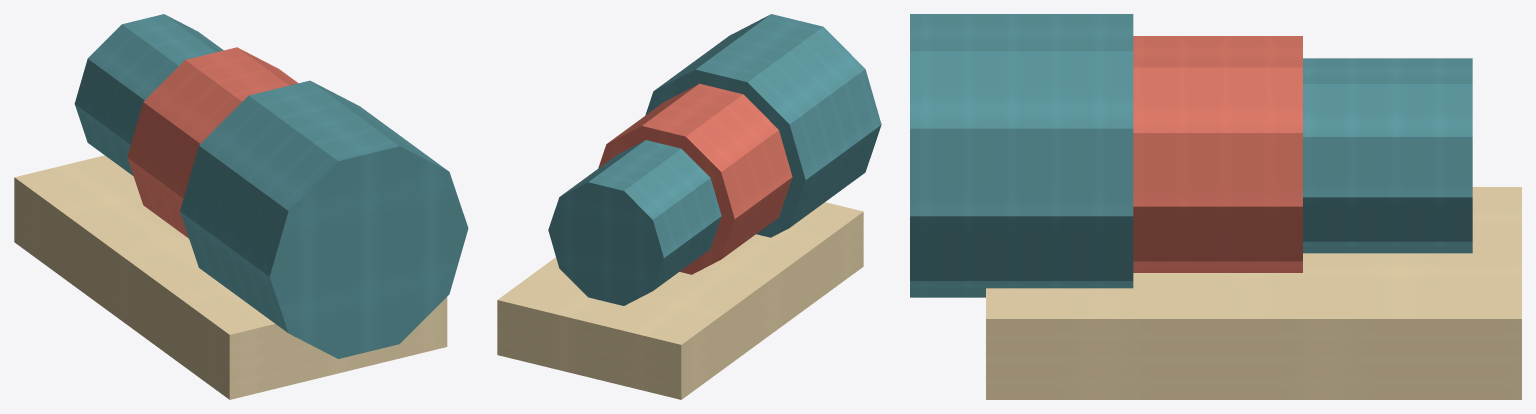
Rendered from atlas100-s075-a05.lod1.glb.
3 renders of one model, left to right at view 1: azimuth 30°, elevation 25°; view 2: azimuth 150°, elevation 25°; view 3: azimuth 270°, elevation 25°, orthographic. The views are drawn at different scales.
Parts seen in each view (by area): view 1: atlas100-s075-a05:part-002, atlas100-s075-a05:part-004, atlas100-s075-a05:part-001, atlas100-s075-a05:part-000; view 2: atlas100-s075-a05:part-004, atlas100-s075-a05:part-002, atlas100-s075-a05:part-000, atlas100-s075-a05:part-001; view 3: atlas100-s075-a05:part-004, atlas100-s075-a05:part-002, atlas100-s075-a05:part-001, atlas100-s075-a05:part-000.
Part boxes in pixels (x1,y1,x2,y2): atlas100-s075-a05:part-002: (180,80,468,358); atlas100-s075-a05:part-004: (14,155,447,399); atlas100-s075-a05:part-001: (127,47,298,238); atlas100-s075-a05:part-000: (74,14,223,175); atlas100-s075-a05:part-004: (497,202,863,399); atlas100-s075-a05:part-002: (645,14,881,237); atlas100-s075-a05:part-000: (548,140,721,305); atlas100-s075-a05:part-001: (598,83,792,274); atlas100-s075-a05:part-004: (986,187,1521,399); atlas100-s075-a05:part-002: (910,14,1133,297); atlas100-s075-a05:part-001: (1133,36,1302,272); atlas100-s075-a05:part-000: (1303,58,1472,253).
Bounding box in the file's own units: 0.3822 × 0.4064 × 0.748.
Materials: 3 (3 with a texture image).
